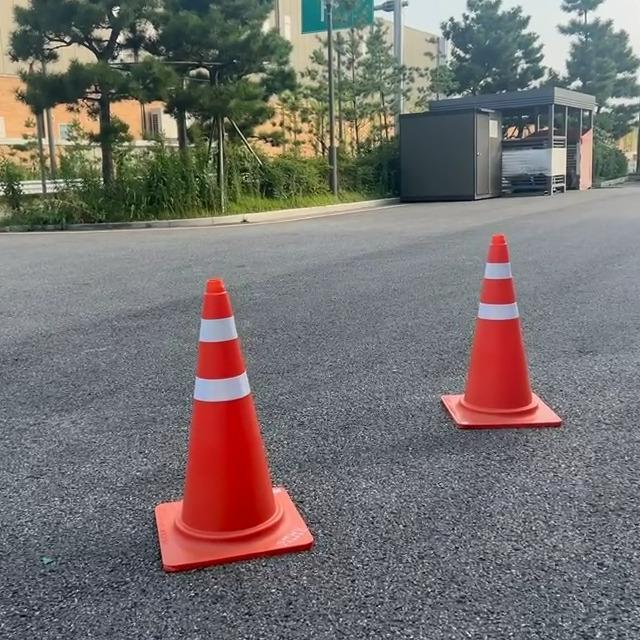fallen_object: (132, 255, 340, 592), (413, 229, 587, 472)
